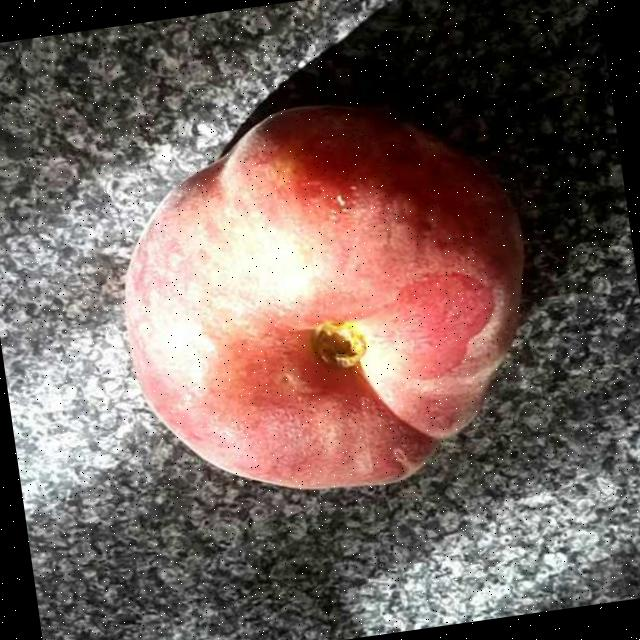peach: (112, 89, 536, 487), (103, 106, 532, 489), (122, 106, 524, 497), (124, 108, 510, 496), (126, 114, 524, 484)
